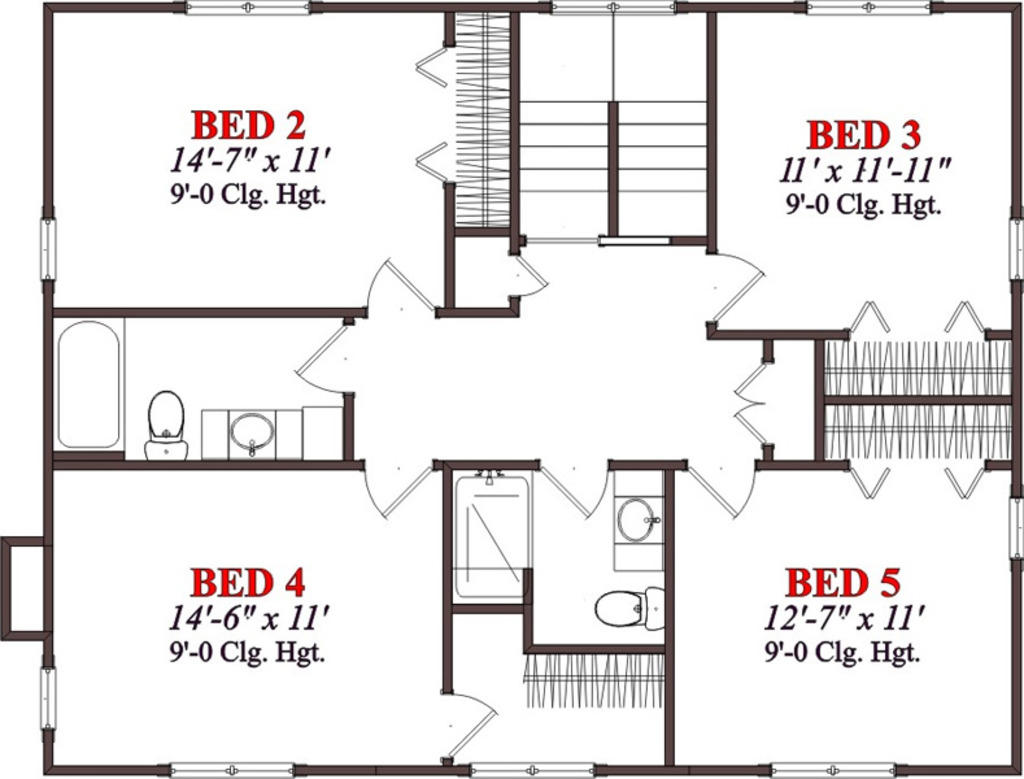door: (687, 458, 758, 520), (535, 460, 607, 521), (361, 458, 432, 518), (440, 694, 506, 757), (706, 250, 762, 323), (364, 257, 435, 314), (297, 327, 355, 393), (730, 357, 764, 447), (511, 252, 549, 302)
large_sink: (590, 583, 670, 638), (139, 384, 193, 461)
small_sink: (211, 409, 289, 464), (611, 478, 664, 554)
stairs: (516, 10, 718, 248)
tub: (48, 314, 126, 460), (455, 472, 530, 607), (443, 683, 496, 759)
windows: (164, 757, 316, 779), (169, 1, 311, 23), (762, 759, 903, 777), (464, 760, 591, 779), (36, 663, 61, 735), (37, 213, 60, 286), (782, 4, 937, 12), (1007, 215, 1024, 281), (1011, 499, 1024, 559)
